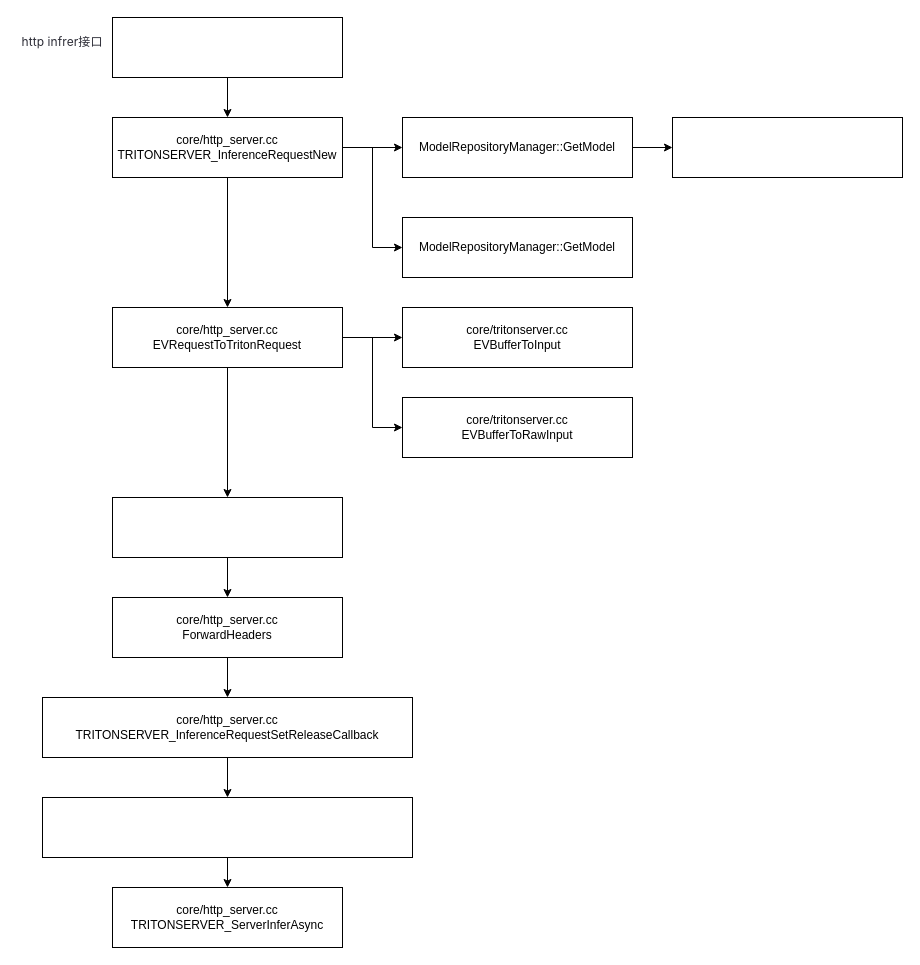
This 920x965 diagram has some shape labels left out. Each missing label, with the centre of its shape:
core/http_server.cc TRITONSERVER_InferenceRequestId: point 227,527
core/http_server.cc TRITONSERVER_InferenceRequestSetResponseCallback: point 227,827
HTTPAPIServer::HandleInfer: point 227,47
ModelLifeCycle::GetModel: point 787,147
